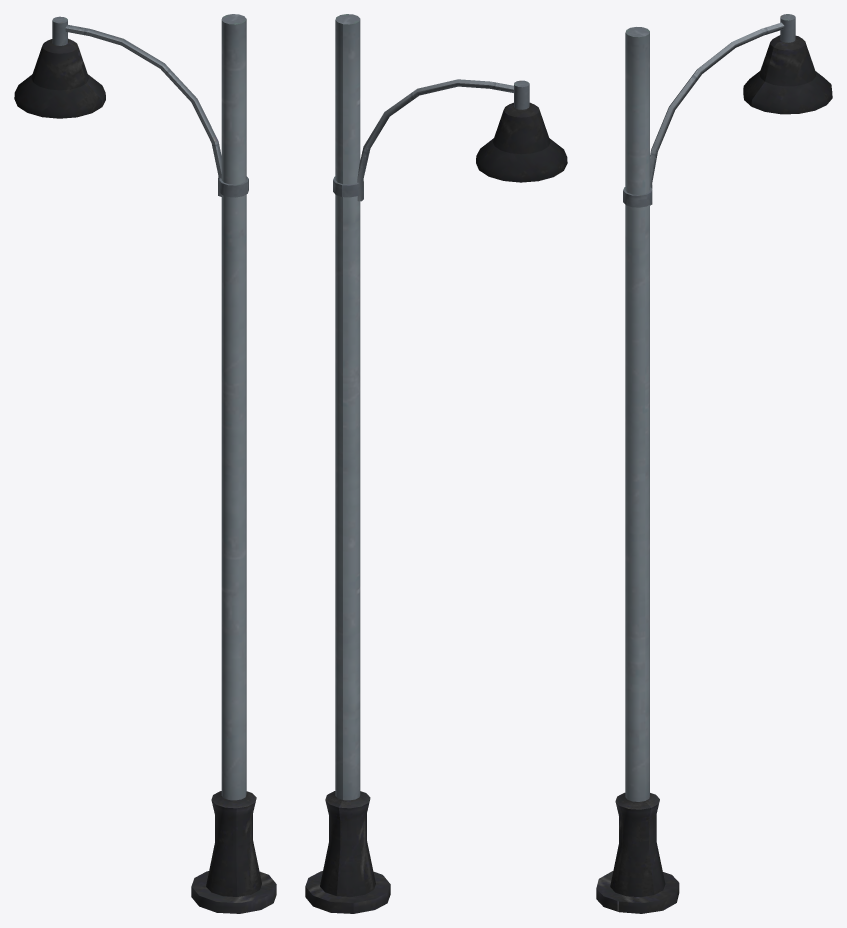
The model's file is streetlamp.fbx.
The picture shows the model from 3 angles, left to right: view 1: azimuth 30°, elevation 25°; view 2: azimuth 210°, elevation 25°; view 3: azimuth 270°, elevation 25°; orthographic projection.
Visible parts, largest first — view 1: lamo01__8_; view 2: lamo01__8_; view 3: lamo01__8_.
Part boxes in pixels (<box>): lamo01__8_: <box>14,14,276,913</box>; lamo01__8_: <box>305,14,567,913</box>; lamo01__8_: <box>596,14,832,913</box>.
Bounding box in the file's own units: 0.7913 × 3.81 × 0.9454.
Materials: 1 (1 with a texture image).
